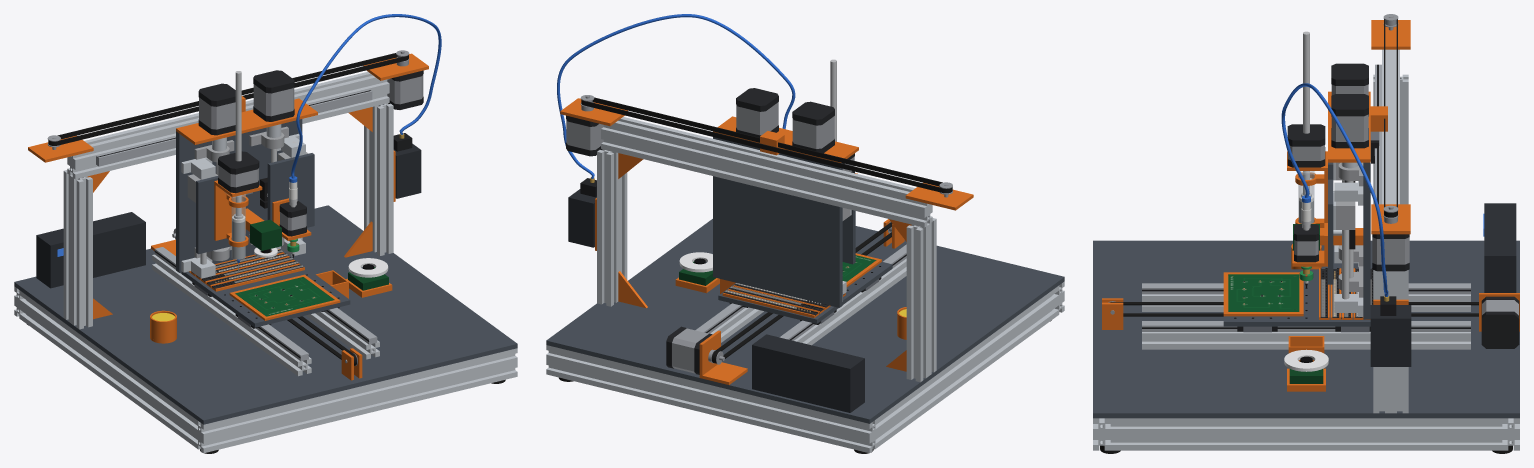
The model's file is pnp_200.glb.
The picture shows the model from 3 angles, left to right: view 1: azimuth 30°, elevation 25°; view 2: azimuth 150°, elevation 25°; view 3: azimuth 270°, elevation 25°; orthographic projection. The views are drawn at different scales.
Bounding box in the file's own units: 586 × 422 × 480.
37 materials, 1 textured.
